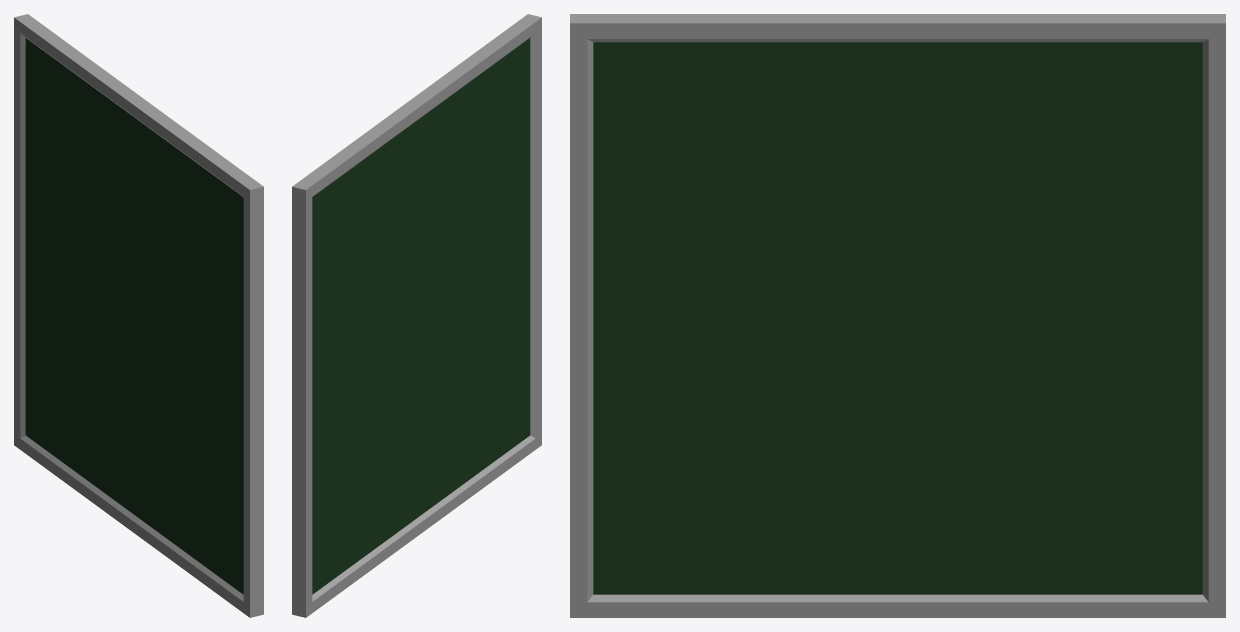
The model's file is DivisoriaTeste2.fbx.
The picture shows the model from 3 angles, left to right: view 1: azimuth 30°, elevation 25°; view 2: azimuth 150°, elevation 25°; view 3: azimuth 270°, elevation 25°; orthographic projection. The views are drawn at different scales.
Parts seen in each view (by area): view 1: Cube; view 2: Cube; view 3: Cube.
Part boxes in pixels (x1,y1,x2,y2): Cube: (14,14,263,617); Cube: (292,14,541,617); Cube: (570,14,1225,617).
Size of the model in its own units: 28.42 by 832 by 832.
